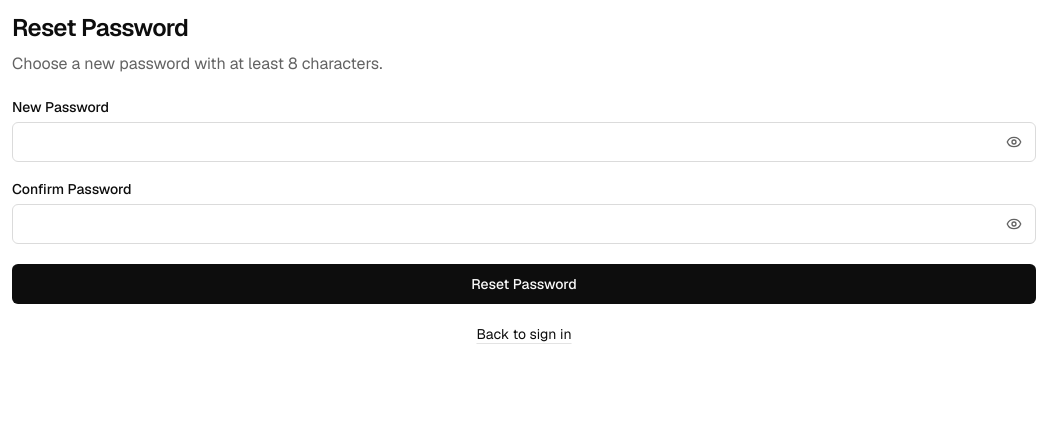
it: ResetPasswordForm (basic) › shows error when passwords do not match
Type "12345678" into the password field labelled "New Password".
click(524, 142); type("12345678")  # box [12, 122, 1036, 162]
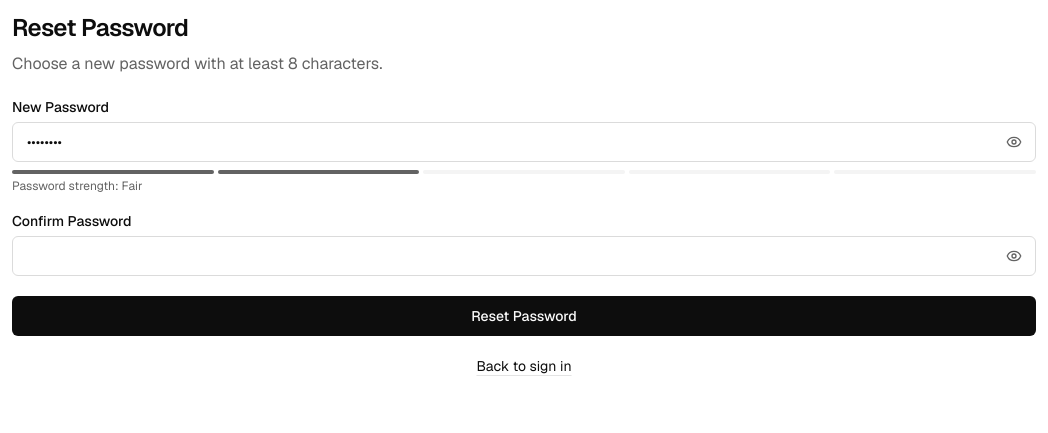
Type "87654321" into the password field labelled "Confirm Password".
click(524, 256); type("87654321")  # box [12, 236, 1036, 276]
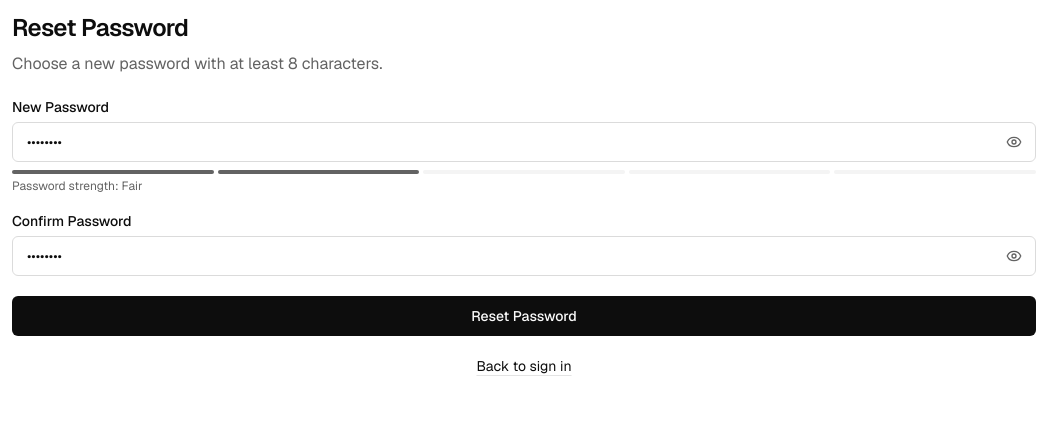
Submit the form from the button "Reset Password", box [12, 296, 1036, 336]
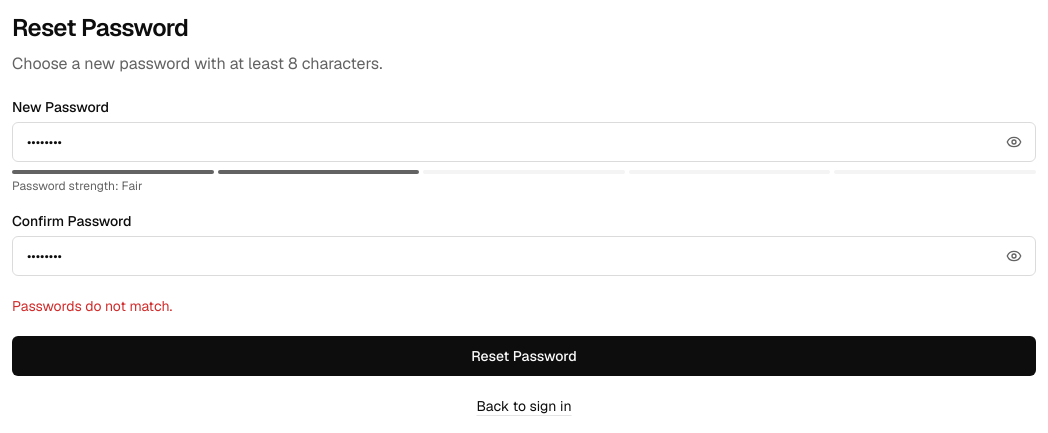
Expected: the text "Passwords do not match." is shown, [12, 297, 172, 315]
